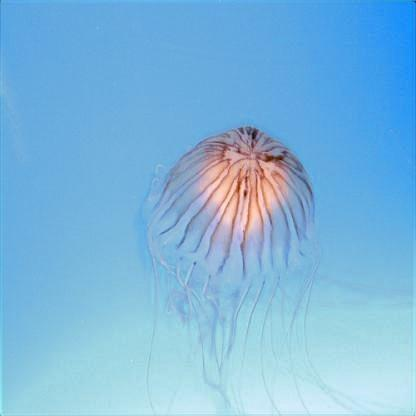Moon: (148, 126, 322, 351)
